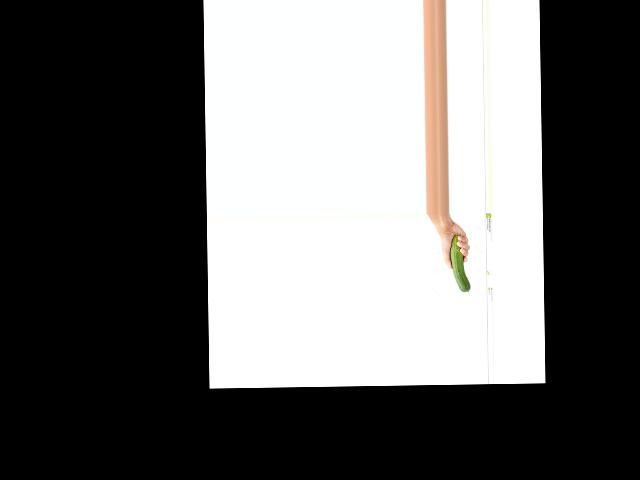cucumber: (450, 235, 470, 292)
